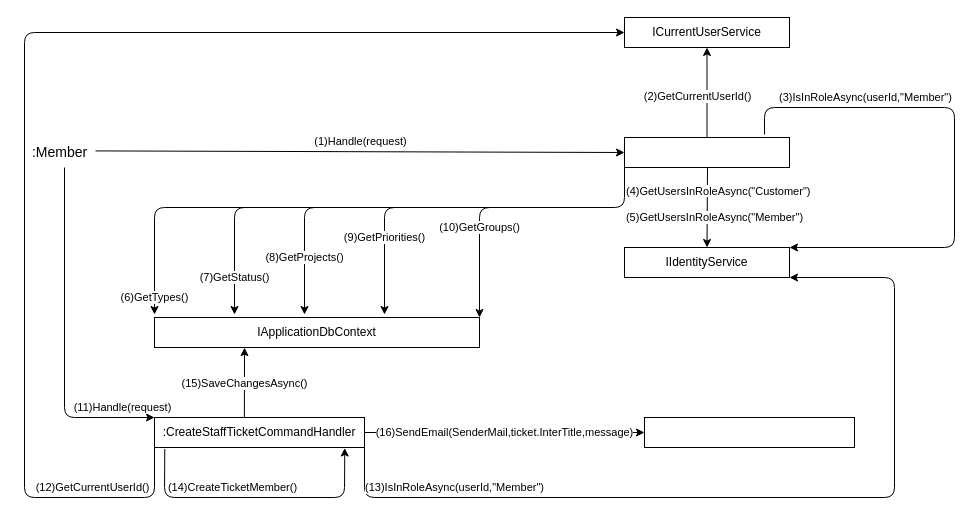
This 980x523 diagram has some shape labels left out. The box of each missing label's shape, as (x1, y1, x2, y2) in pixels:
:CreateTicketQueryHandler: (624, 136, 790, 168)
IEmail: (644, 416, 854, 448)
